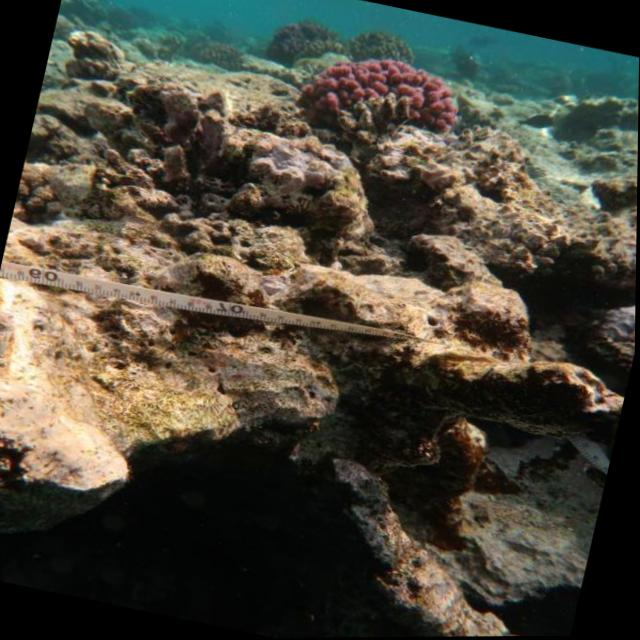Healthy Coral: (279, 34, 471, 150)
